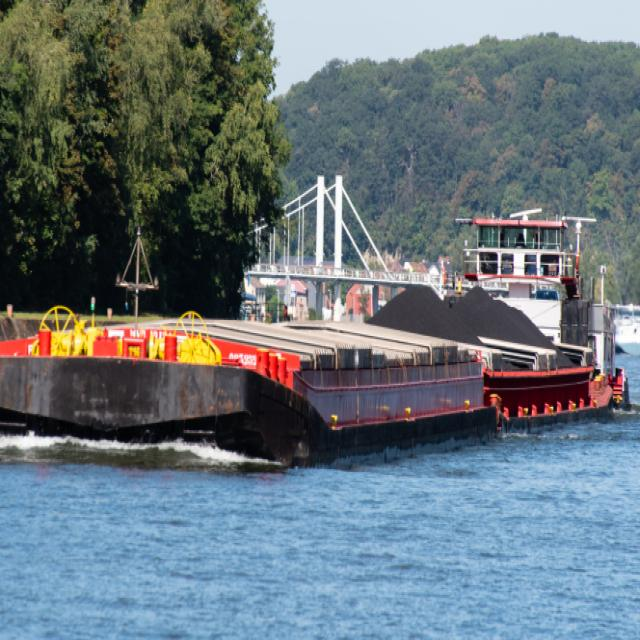tugboat: (445, 204, 637, 419)
